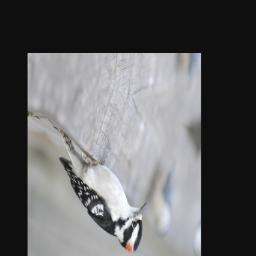Woodpecker: (37, 123, 157, 256)
